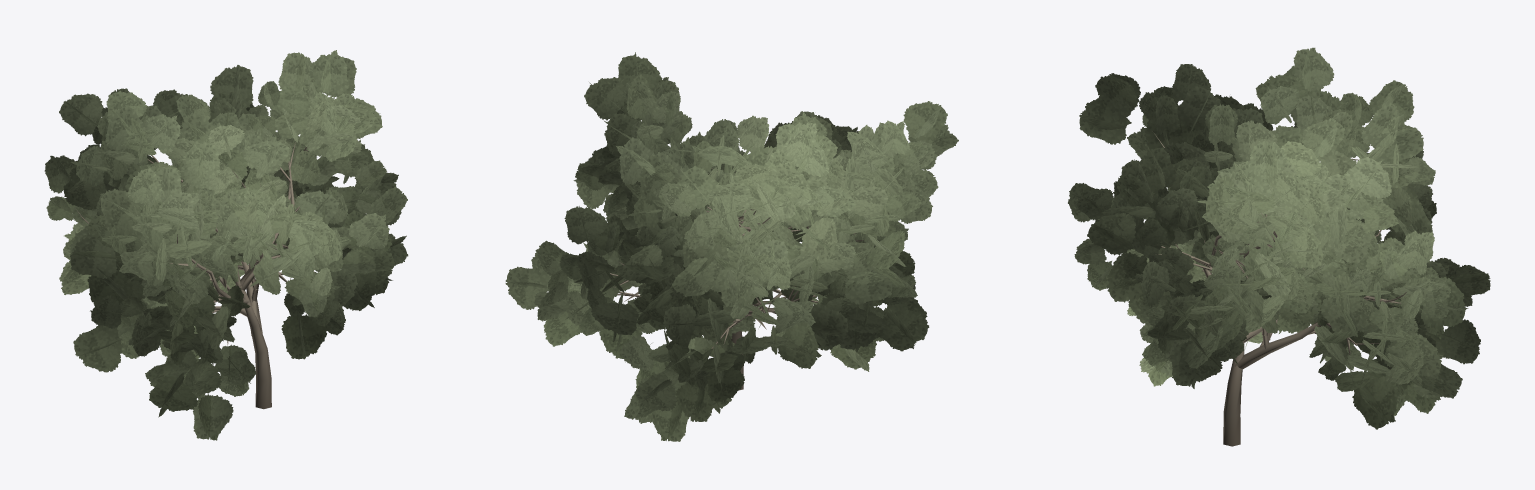
Rendered from olivo.glb.
The picture shows the model from 3 angles, left to right: view 1: azimuth 30°, elevation 25°; view 2: azimuth 150°, elevation 25°; view 3: azimuth 270°, elevation 25°; orthographic projection. The views are drawn at different scales.
Visible parts, largest first — view 1: olivo; view 2: olivo; view 3: olivo.
Boxes of the visible parts, left/top/right/bottom form: olivo: left=44, top=50, right=408, bottom=440; olivo: left=505, top=52, right=958, bottom=441; olivo: left=1068, top=47, right=1490, bottom=446.
Size of the model in its own units: 6.84 by 6 by 6.71.
2 materials, 1 textured.
